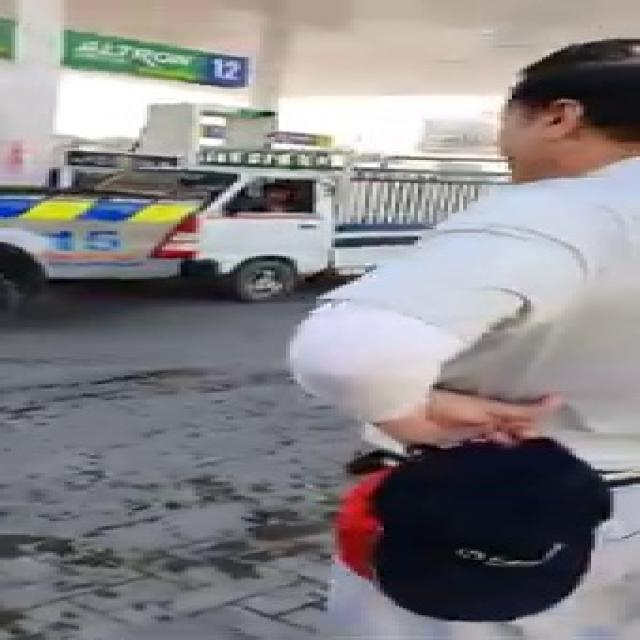police: (0, 179, 203, 298)
